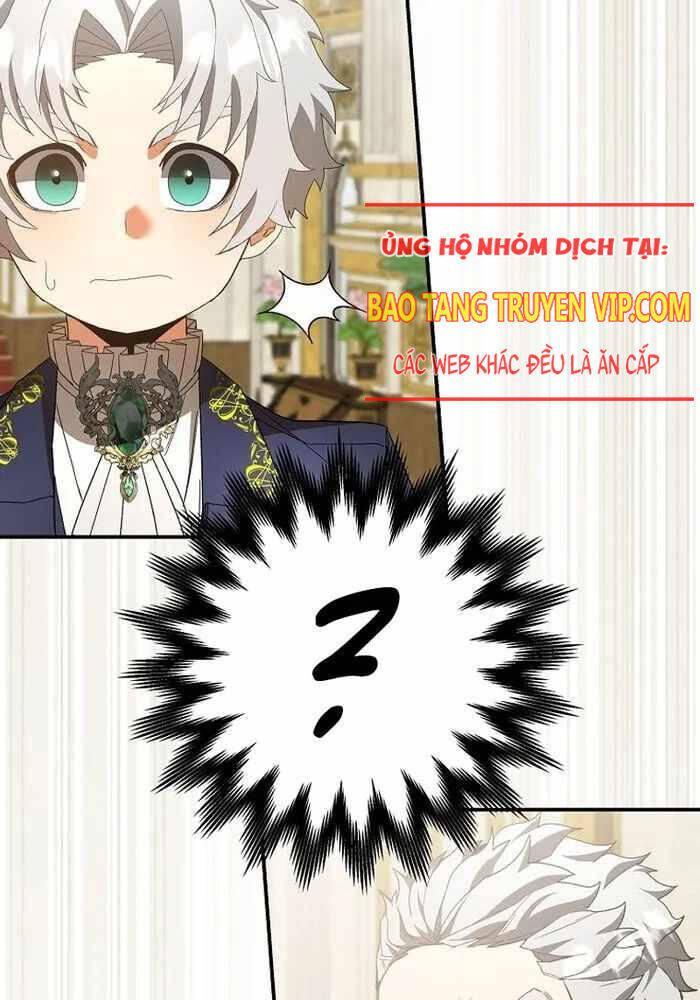quangcao: (361, 203, 700, 404)
